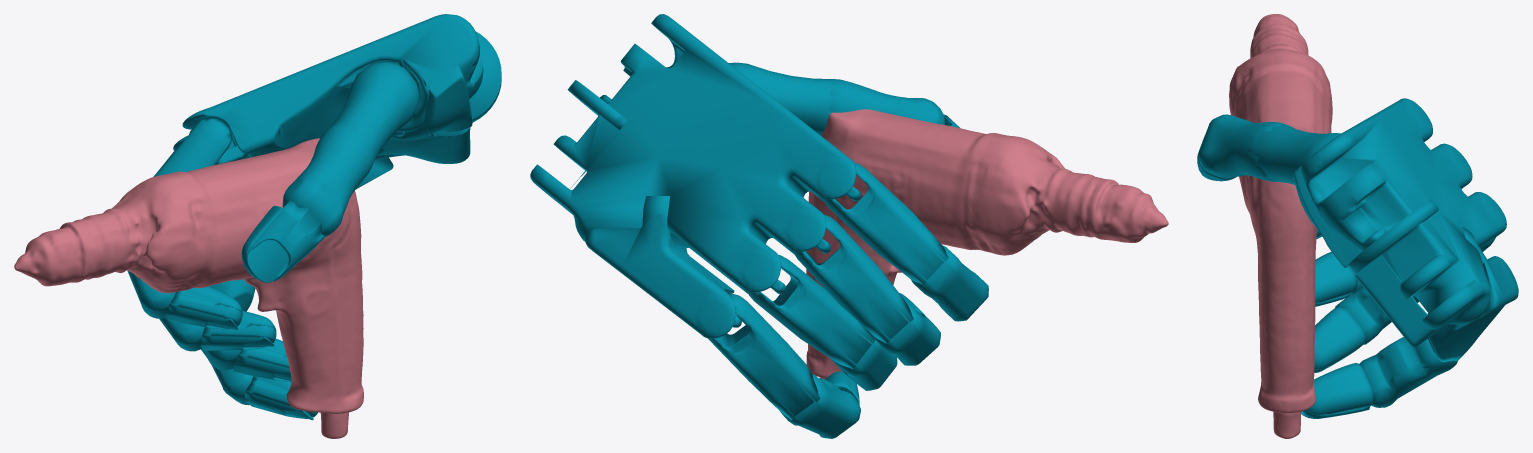
3 renders of one model, left to right at view 1: azimuth 30°, elevation 25°; view 2: azimuth 150°, elevation 25°; view 3: azimuth 270°, elevation 25°, orthographic.
Parts seen in each view (by area): view 1: world; view 2: world; view 3: world.
Part boxes in pixels (<box>): world: <box>14,14,501,438</box>; world: <box>530,14,1168,438</box>; world: <box>1197,14,1518,438</box>.
Bounding box in the file's own units: 0.2336 × 0.1496 × 0.1188.
